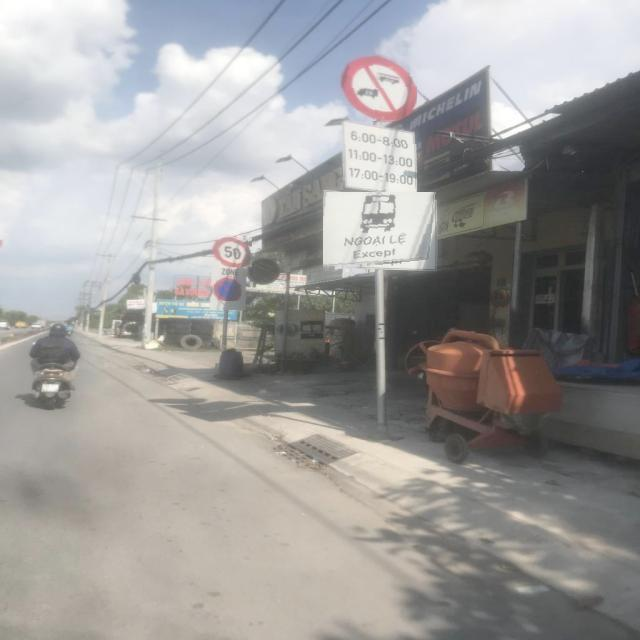107-cam-oto-khach-va-oto-tai: (338, 54, 418, 122)
127-toc-do-toi-da-50: (210, 236, 250, 268)
131a-cam-do-xe: (214, 276, 242, 300)
